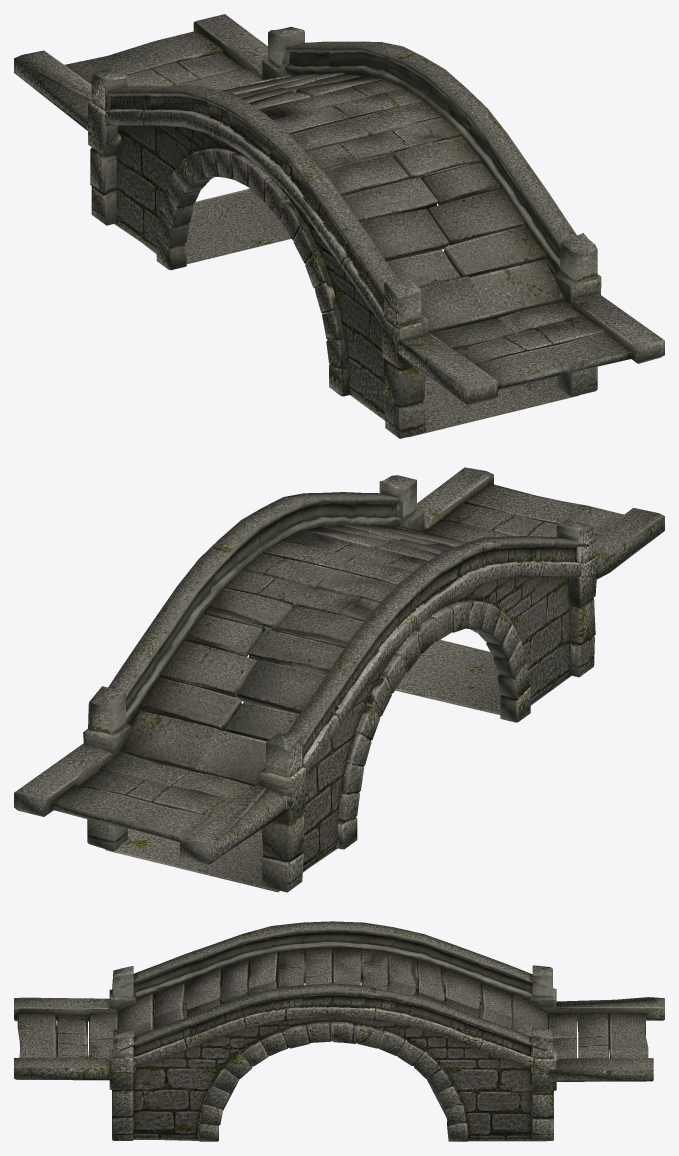
The model's file is tripo_convert_2f6d6d89-af5c-4feb-a602-18363ac52336.fbx.
3 renders of one model, top to bottom at view 1: azimuth 30°, elevation 25°; view 2: azimuth 150°, elevation 25°; view 3: azimuth 270°, elevation 25°, orthographic. The views are drawn at different scales.
Parts seen in each view (by area): view 1: tripo_node_2f6d6d89; view 2: tripo_node_2f6d6d89; view 3: tripo_node_2f6d6d89.
Part boxes in pixels (bbox=[...]): tripo_node_2f6d6d89: bbox=[14, 14, 664, 438]; tripo_node_2f6d6d89: bbox=[14, 467, 664, 892]; tripo_node_2f6d6d89: bbox=[14, 921, 664, 1141].
Size of the model in its own units: 0.2637 by 0.2637 by 0.998.
1 material, 1 textured.
